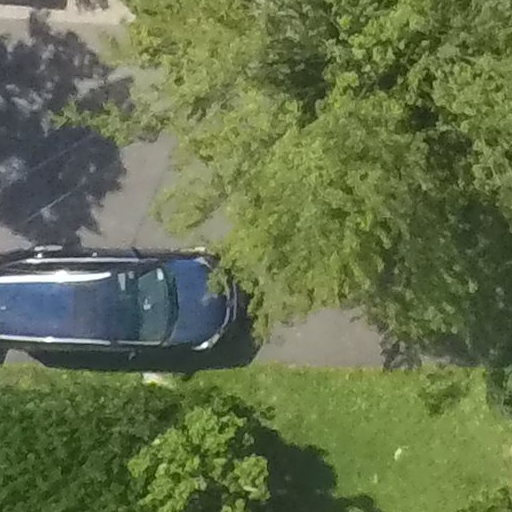car: (1, 224, 267, 356)
